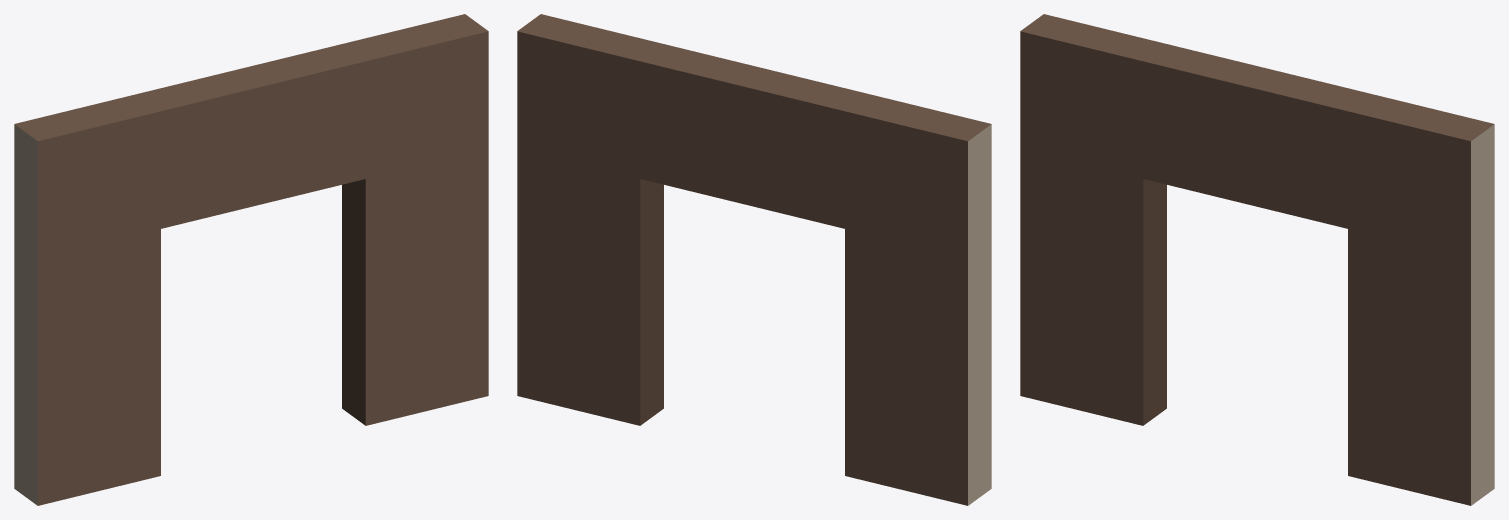
File: Structure_1.fbx
3 renders of one model, left to right at view 1: azimuth 30°, elevation 25°; view 2: azimuth 150°, elevation 25°; view 3: azimuth 330°, elevation 25°, orthographic.
Visible parts, largest first — view 1: Model_1; view 2: Model_1; view 3: Model_1.
Part boxes in pixels (x1=…): Model_1: x1=14, y1=14, x2=488, y2=505; Model_1: x1=517, y1=14, x2=991, y2=505; Model_1: x1=1020, y1=14, x2=1494, y2=505.
Size of the model in its own units: 5.5 by 4.25 by 0.5.
